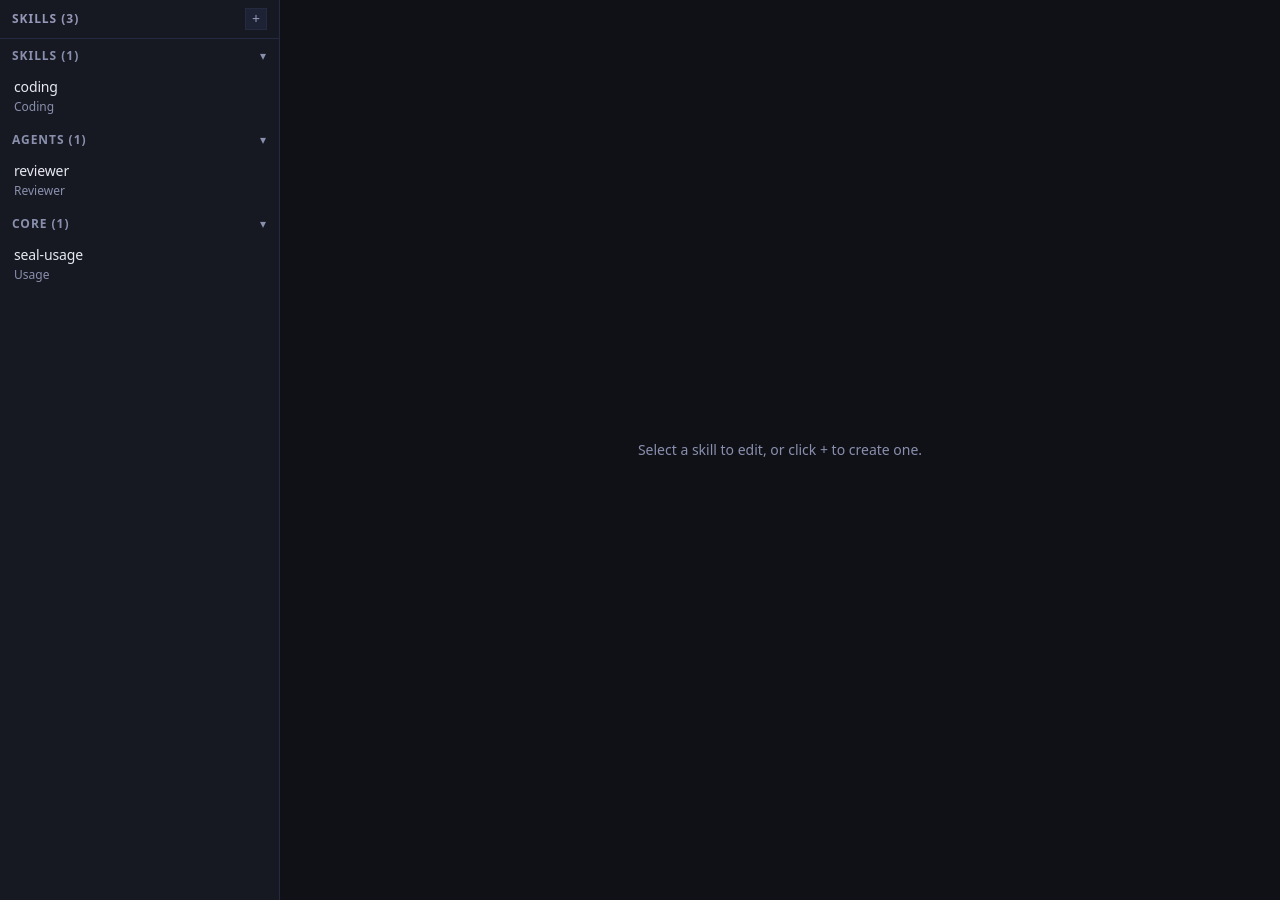
Test: SkillsView › collapsing one group does not affect other groups
This screenshot has width=1280, height=900.
Collapse core
Click the element with test id "skill-group-header-core".
click(30, 224)  # box [12,215,267,232]
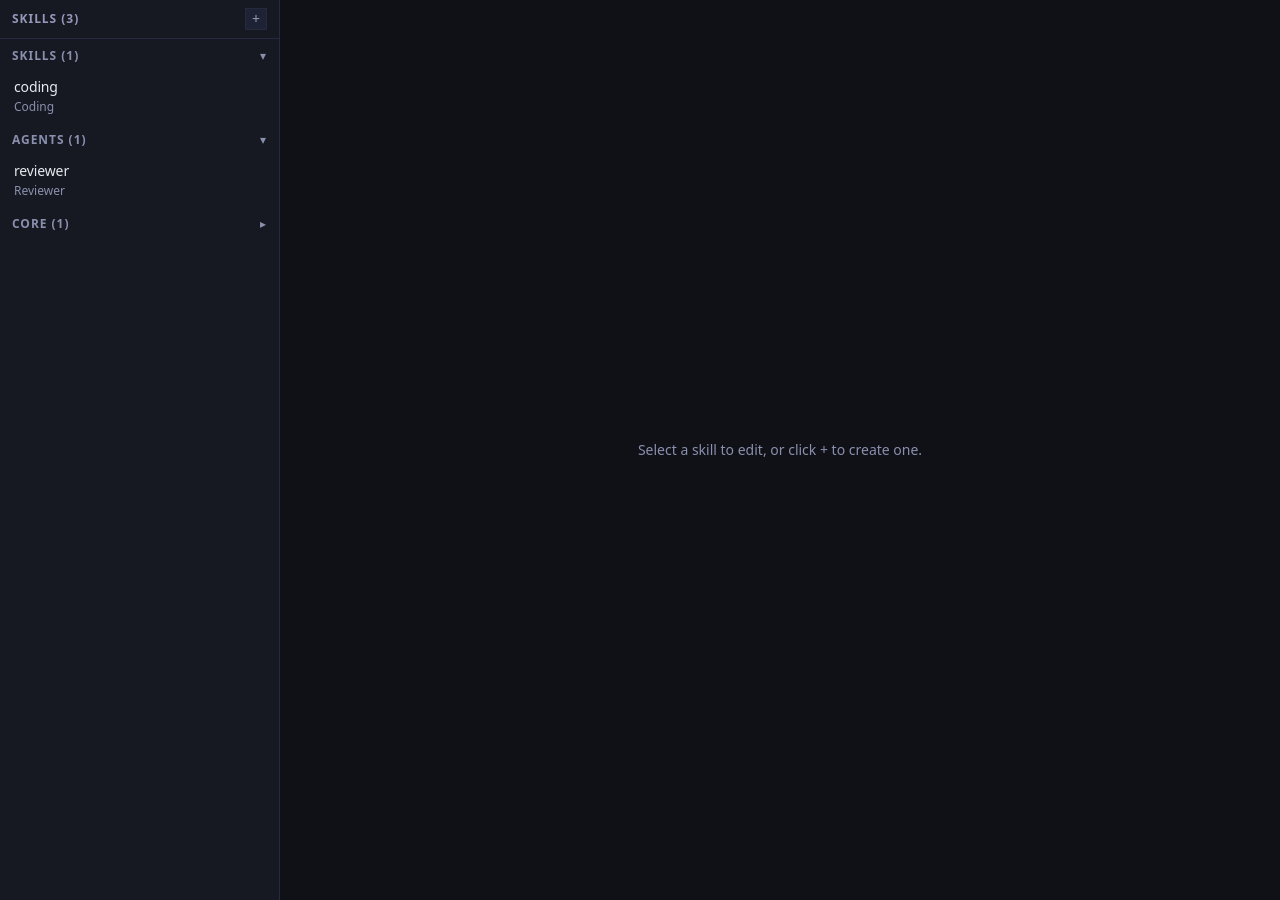
Expected: the element with test id "skill-row-reviewer" is shown, [14,161,69,199]
Now the element with test id "skill-row-seal-usage" is gone
